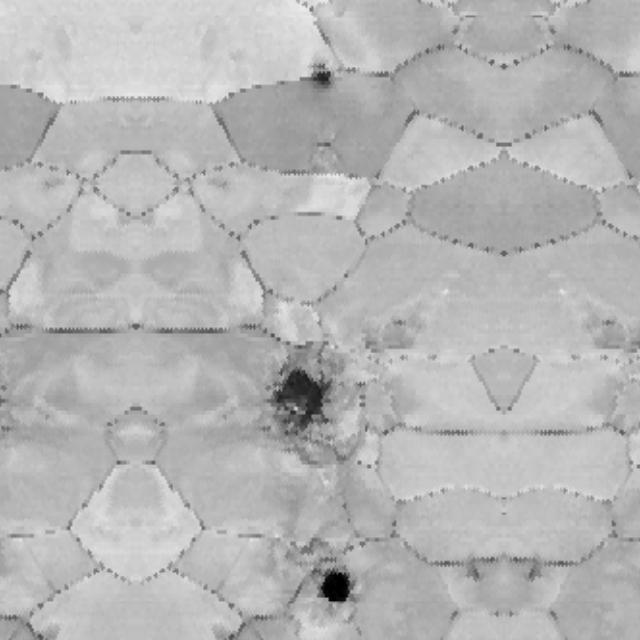good_void: (246, 353, 355, 442), (310, 555, 368, 613), (363, 312, 421, 363), (586, 312, 640, 363), (280, 530, 326, 566), (308, 125, 340, 163), (300, 66, 340, 88), (457, 559, 484, 587), (523, 559, 550, 587)
